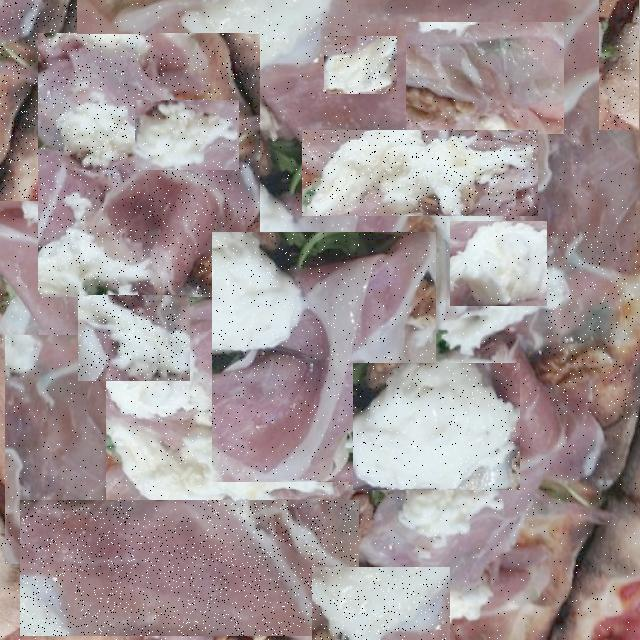Cheese: (354, 363, 522, 490), (302, 130, 538, 217), (312, 567, 450, 640), (78, 295, 190, 381), (131, 386, 202, 516), (450, 221, 547, 306), (135, 100, 239, 170), (324, 36, 397, 94), (155, 12, 246, 54)
Ham: (38, 34, 260, 297), (212, 232, 436, 482), (20, 500, 359, 636), (5, 335, 106, 564), (492, 437, 604, 622), (406, 22, 564, 134), (547, 232, 638, 419), (251, 16, 368, 42)
Pizza: (0, 0, 640, 640), (0, 3, 77, 200), (600, 4, 638, 129)
